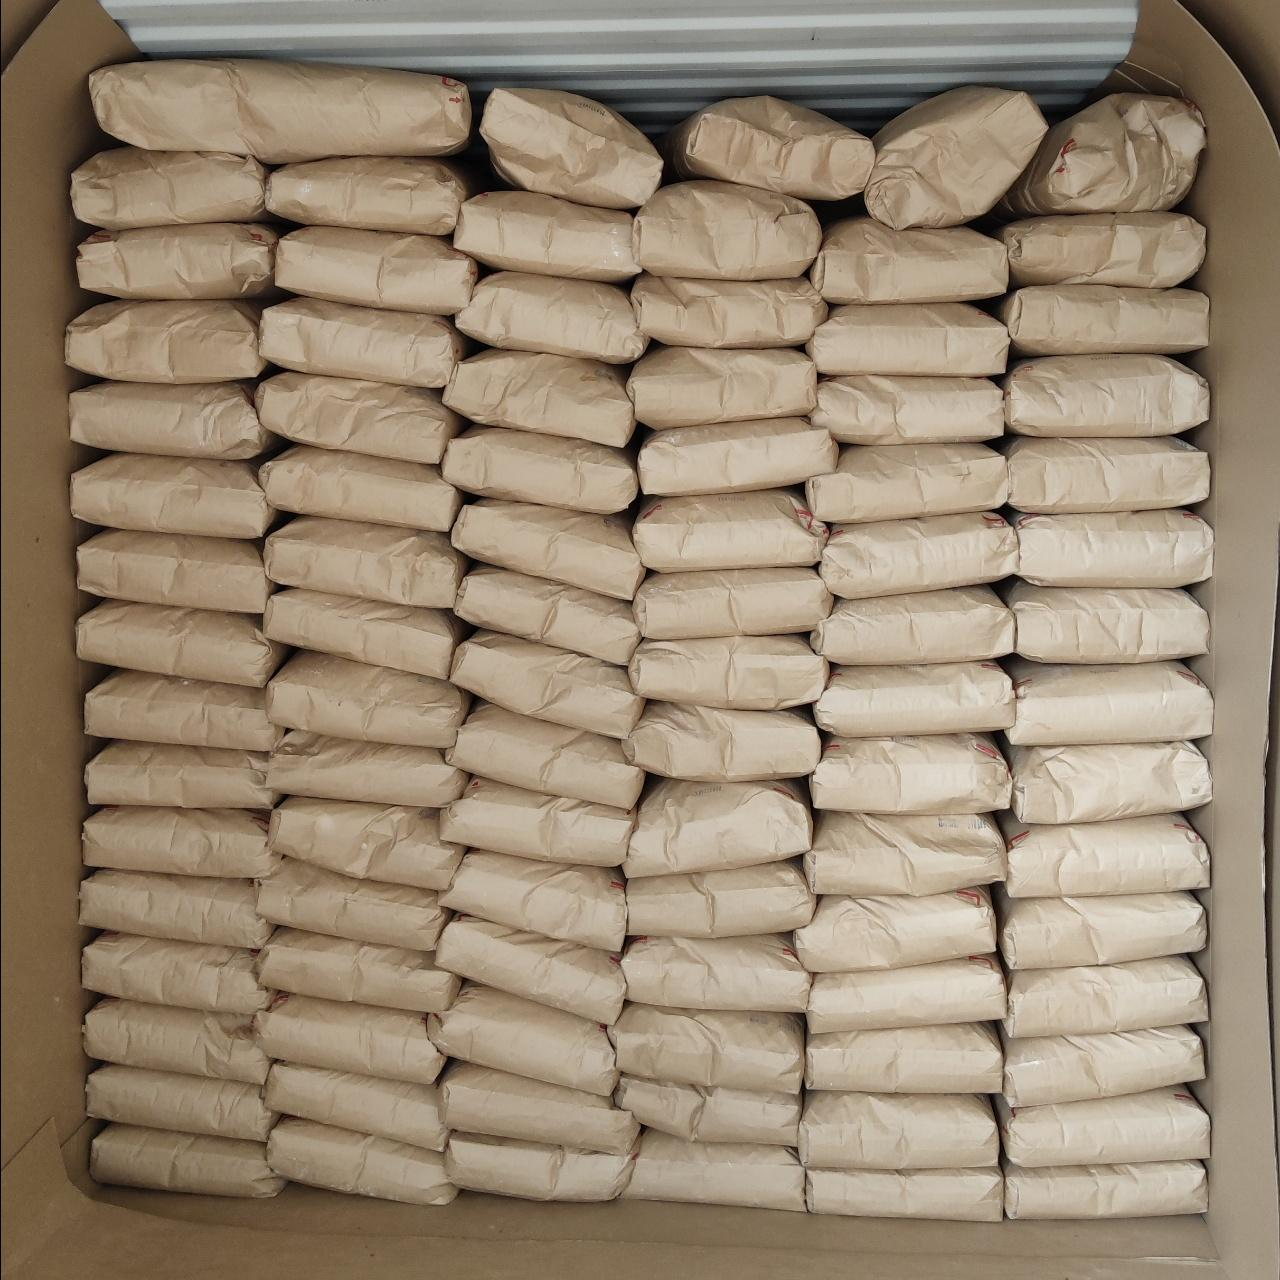sack: (90, 58, 469, 163), (864, 86, 1047, 229), (1003, 92, 1204, 216), (480, 88, 662, 208), (428, 982, 618, 1096), (666, 96, 873, 200), (436, 915, 626, 1024), (447, 704, 644, 808), (451, 631, 643, 737), (267, 650, 470, 748), (451, 499, 644, 599), (255, 372, 464, 463), (443, 348, 635, 447), (440, 851, 627, 952), (262, 296, 469, 387), (438, 1061, 638, 1155), (623, 779, 812, 877), (634, 181, 821, 280), (263, 588, 467, 678), (77, 600, 288, 687), (456, 565, 639, 665), (265, 517, 467, 607), (257, 857, 452, 950), (269, 797, 464, 890), (276, 225, 477, 314), (1000, 812, 1209, 897), (259, 445, 462, 532), (611, 1003, 804, 1094), (440, 776, 634, 866), (71, 453, 276, 538), (1005, 659, 1212, 743), (455, 273, 648, 363), (442, 425, 638, 513), (252, 993, 443, 1083), (793, 887, 995, 972), (819, 512, 1018, 598), (810, 217, 1008, 303), (257, 927, 459, 1011), (454, 191, 640, 282), (1003, 581, 1209, 663), (804, 811, 1005, 895), (994, 889, 1207, 968), (996, 1087, 1208, 1166), (267, 1116, 457, 1203), (1004, 355, 1208, 436), (1010, 742, 1211, 824), (66, 301, 268, 382), (1004, 957, 1208, 1037), (78, 530, 272, 614), (265, 1063, 448, 1152), (267, 157, 474, 235), (633, 489, 827, 572), (1003, 1026, 1204, 1106), (70, 381, 276, 459), (811, 585, 1014, 664), (84, 998, 270, 1084), (70, 147, 267, 228), (637, 417, 838, 496), (805, 954, 1006, 1033), (85, 670, 283, 750), (622, 702, 820, 782), (799, 1091, 999, 1170), (808, 735, 1010, 813), (1001, 437, 1209, 512), (996, 212, 1204, 287), (83, 933, 273, 1015), (266, 730, 467, 807), (806, 445, 1007, 522), (626, 347, 816, 428), (1011, 511, 1213, 587), (814, 661, 1015, 737), (621, 1128, 805, 1211), (77, 223, 277, 298), (994, 285, 1208, 355), (627, 859, 815, 938), (628, 635, 828, 709), (80, 870, 272, 947), (807, 303, 1009, 376), (631, 274, 827, 348), (87, 1065, 275, 1142), (621, 936, 810, 1012), (633, 567, 832, 639), (91, 1124, 285, 1197), (82, 806, 278, 878), (807, 1023, 1001, 1093), (85, 740, 284, 808), (810, 375, 1003, 442), (444, 1132, 633, 1200), (617, 1076, 800, 1145), (1004, 1161, 1207, 1219), (806, 1166, 1003, 1221)
